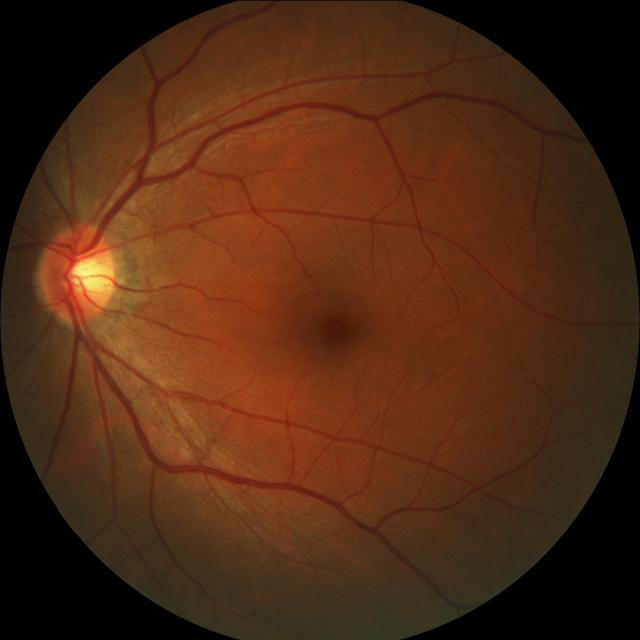OC: (68, 258, 108, 292)
OD: (40, 222, 121, 324)
